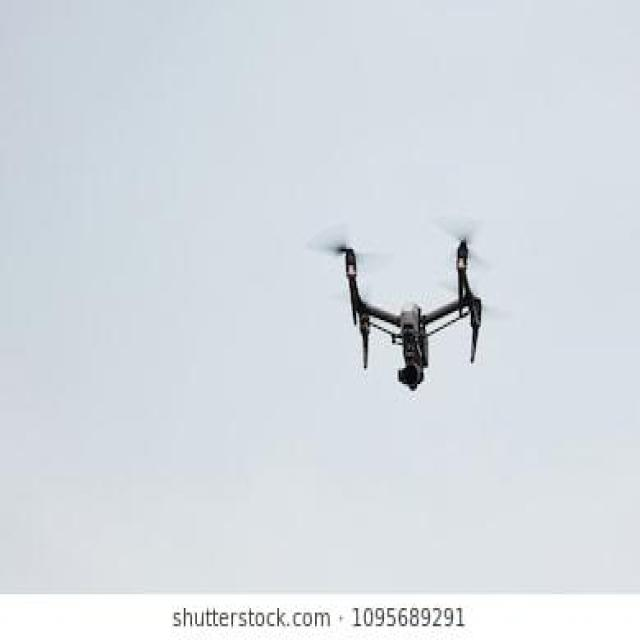drone: (299, 207, 518, 401)
